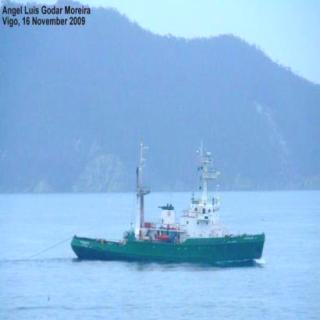Tug Boat: (81, 135, 262, 262)
